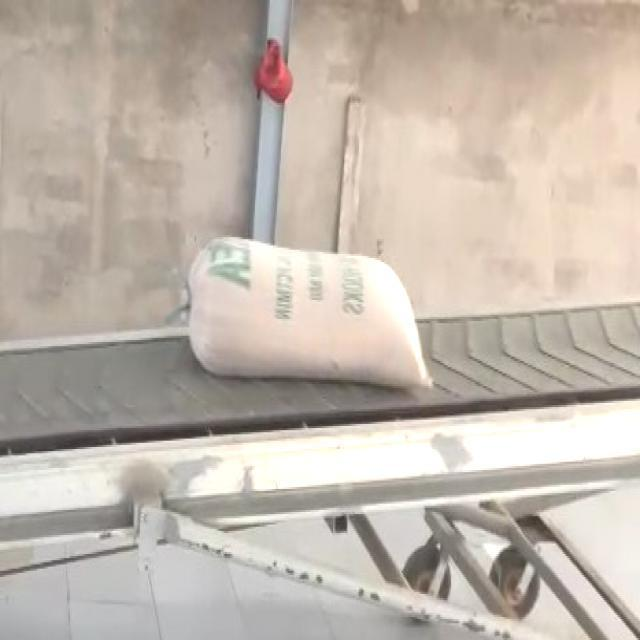gunny_bag: (188, 237, 430, 388)
